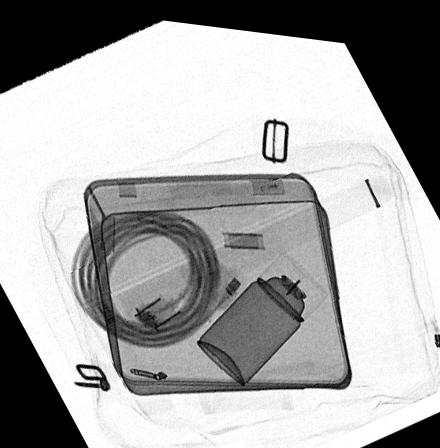Sprayer: (196, 243, 328, 379)
